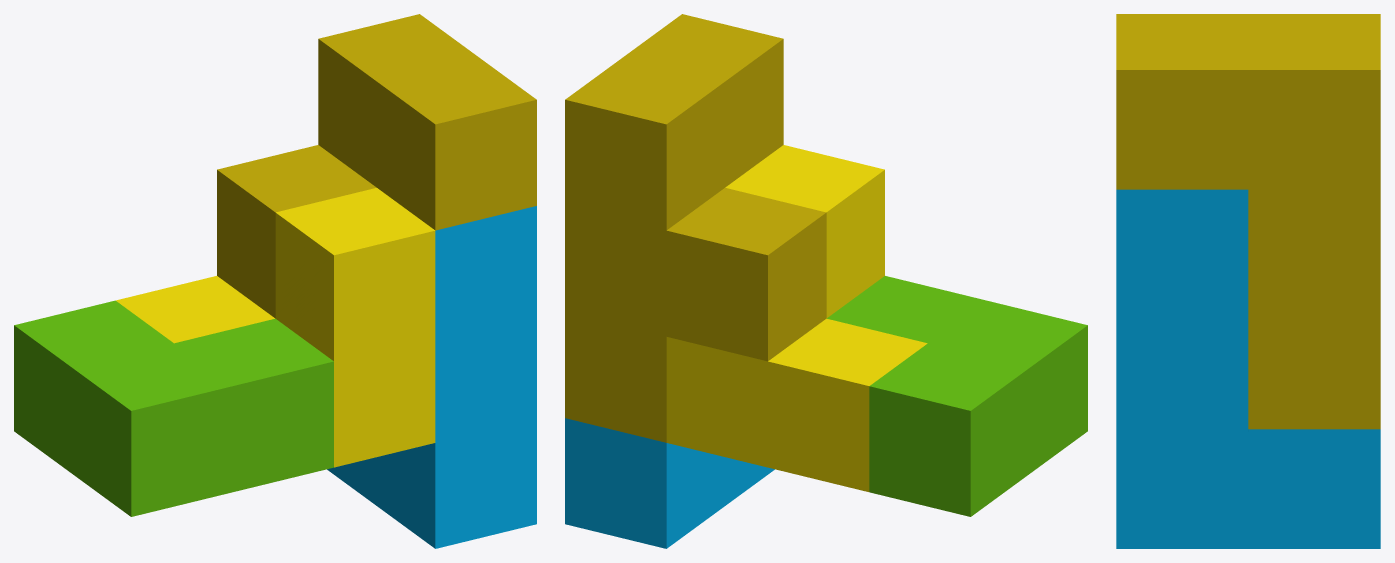
The picture shows the model from 3 angles, left to right: view 1: azimuth 30°, elevation 25°; view 2: azimuth 150°, elevation 25°; view 3: azimuth 270°, elevation 25°; orthographic projection. The views are drawn at different scales.
Parts seen in each view (by area): view 1: mergedBlocks(Clone); view 2: mergedBlocks(Clone); view 3: mergedBlocks(Clone).
Boxes of the visible parts, bbox=[...] form: mergedBlocks(Clone): bbox=[14, 14, 536, 548]; mergedBlocks(Clone): bbox=[565, 14, 1087, 548]; mergedBlocks(Clone): bbox=[1116, 14, 1380, 548].
Size of the model in its own units: 4 by 4 by 2.
Materials: 4 (4 with a texture image).
